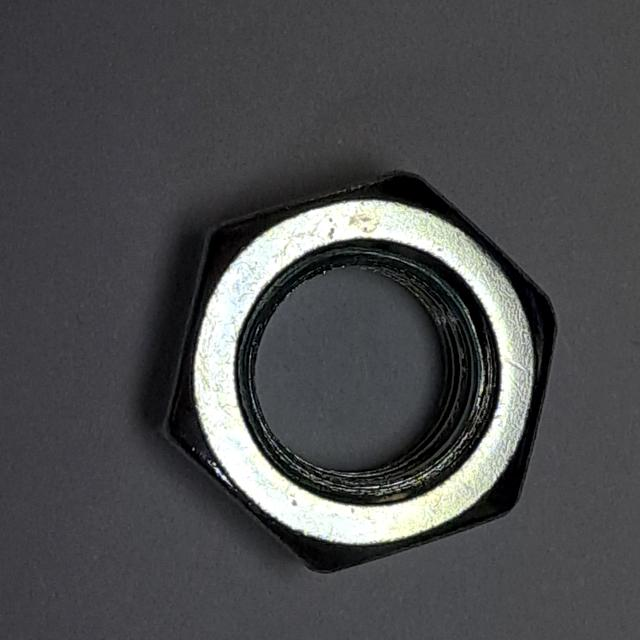Excellent: (134, 158, 570, 590)
